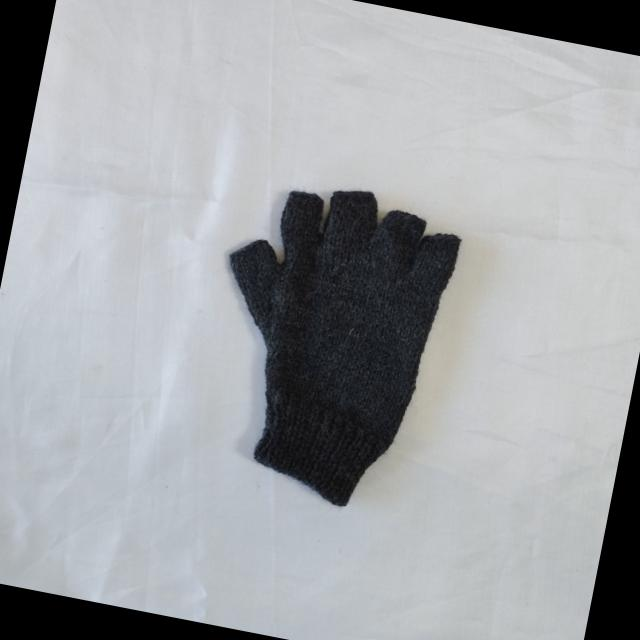Guante: (186, 168, 468, 522)
